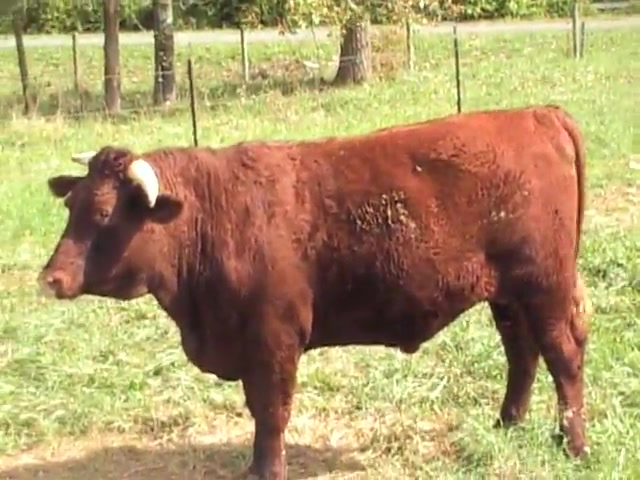cow: (37, 99, 590, 480)
